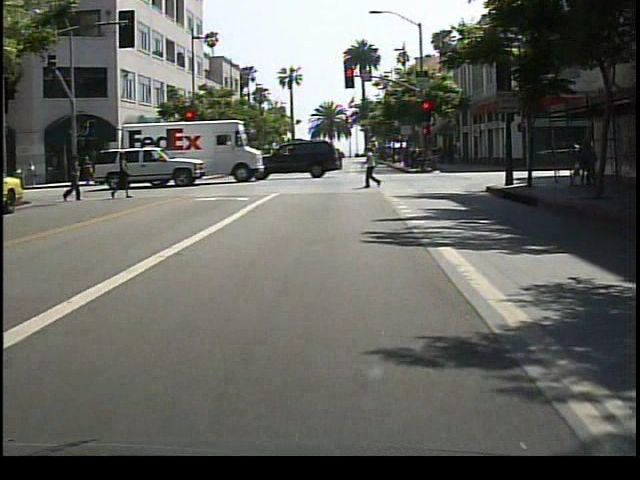person: (572, 136, 601, 195), (110, 151, 135, 203), (361, 145, 386, 192), (64, 158, 86, 206)
